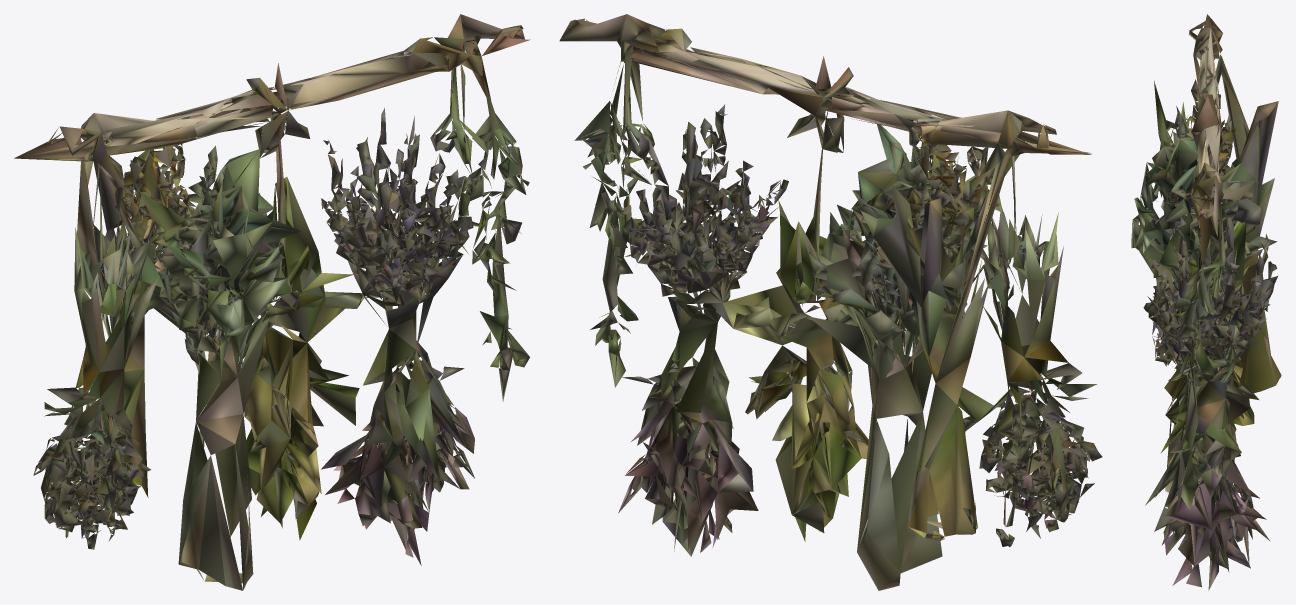
The model's file is Herbal_Harvest_town.glb.
The picture shows the model from 3 angles, left to right: view 1: azimuth 30°, elevation 25°; view 2: azimuth 150°, elevation 25°; view 3: azimuth 270°, elevation 25°; orthographic projection. The views are drawn at different scales.
Parts seen in each view (by area): view 1: Herbal_Harvest; view 2: Herbal_Harvest; view 3: Herbal_Harvest.
Part boxes in pixels (bbox=[...]): Herbal_Harvest: bbox=[14, 14, 530, 590]; Herbal_Harvest: bbox=[559, 14, 1102, 590]; Herbal_Harvest: bbox=[1131, 14, 1281, 590].
Bounding box in the file's own units: 1.87 × 1.81 × 0.5569.
Materials: 1 (1 with a texture image).
